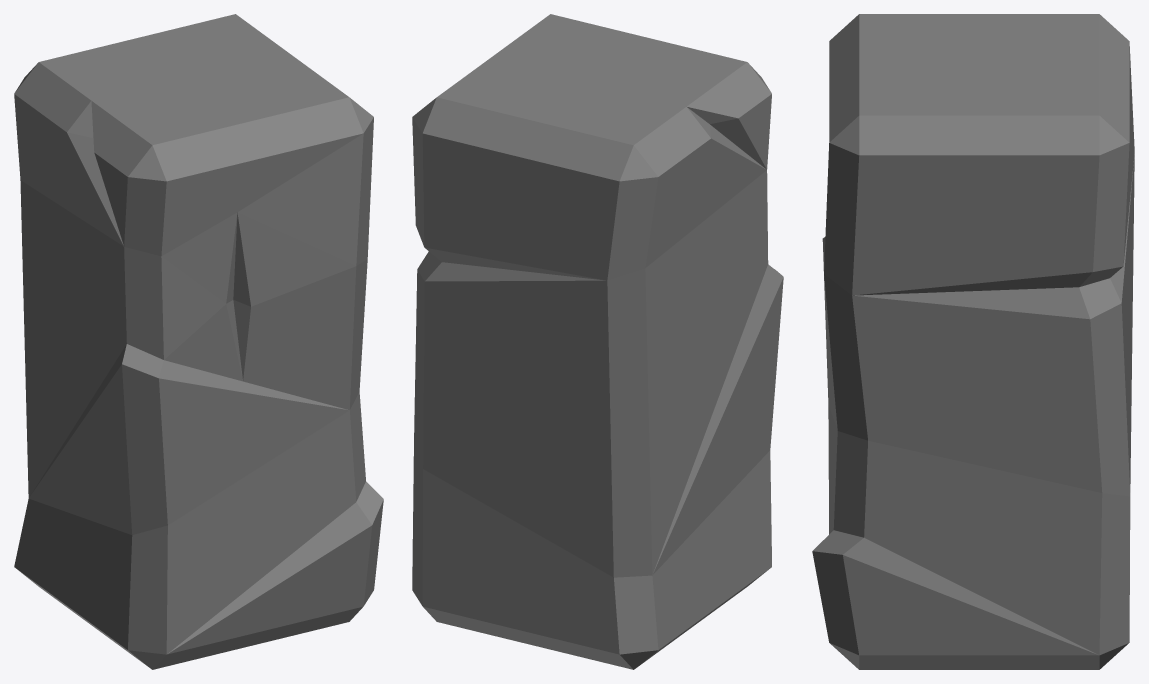
Rendered from model_polytope_rock_tall02.fbx.
The picture shows the model from 3 angles, left to right: view 1: azimuth 30°, elevation 25°; view 2: azimuth 150°, elevation 25°; view 3: azimuth 270°, elevation 25°; orthographic projection. The views are drawn at different scales.
Parts seen in each view (by area): view 1: model_polytope_rock_tall02; view 2: model_polytope_rock_tall02; view 3: model_polytope_rock_tall02.
Part boxes in pixels (box(x1,y1,x2,y2)): model_polytope_rock_tall02: box(14, 14, 383, 669); model_polytope_rock_tall02: box(412, 14, 783, 669); model_polytope_rock_tall02: box(812, 14, 1134, 669).
Bounding box in the file's own units: 315 × 614 × 324.
